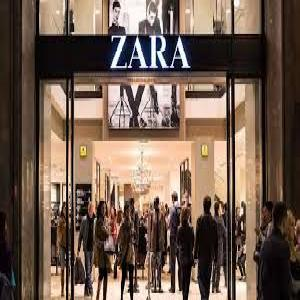zara: (101, 35, 195, 77)
